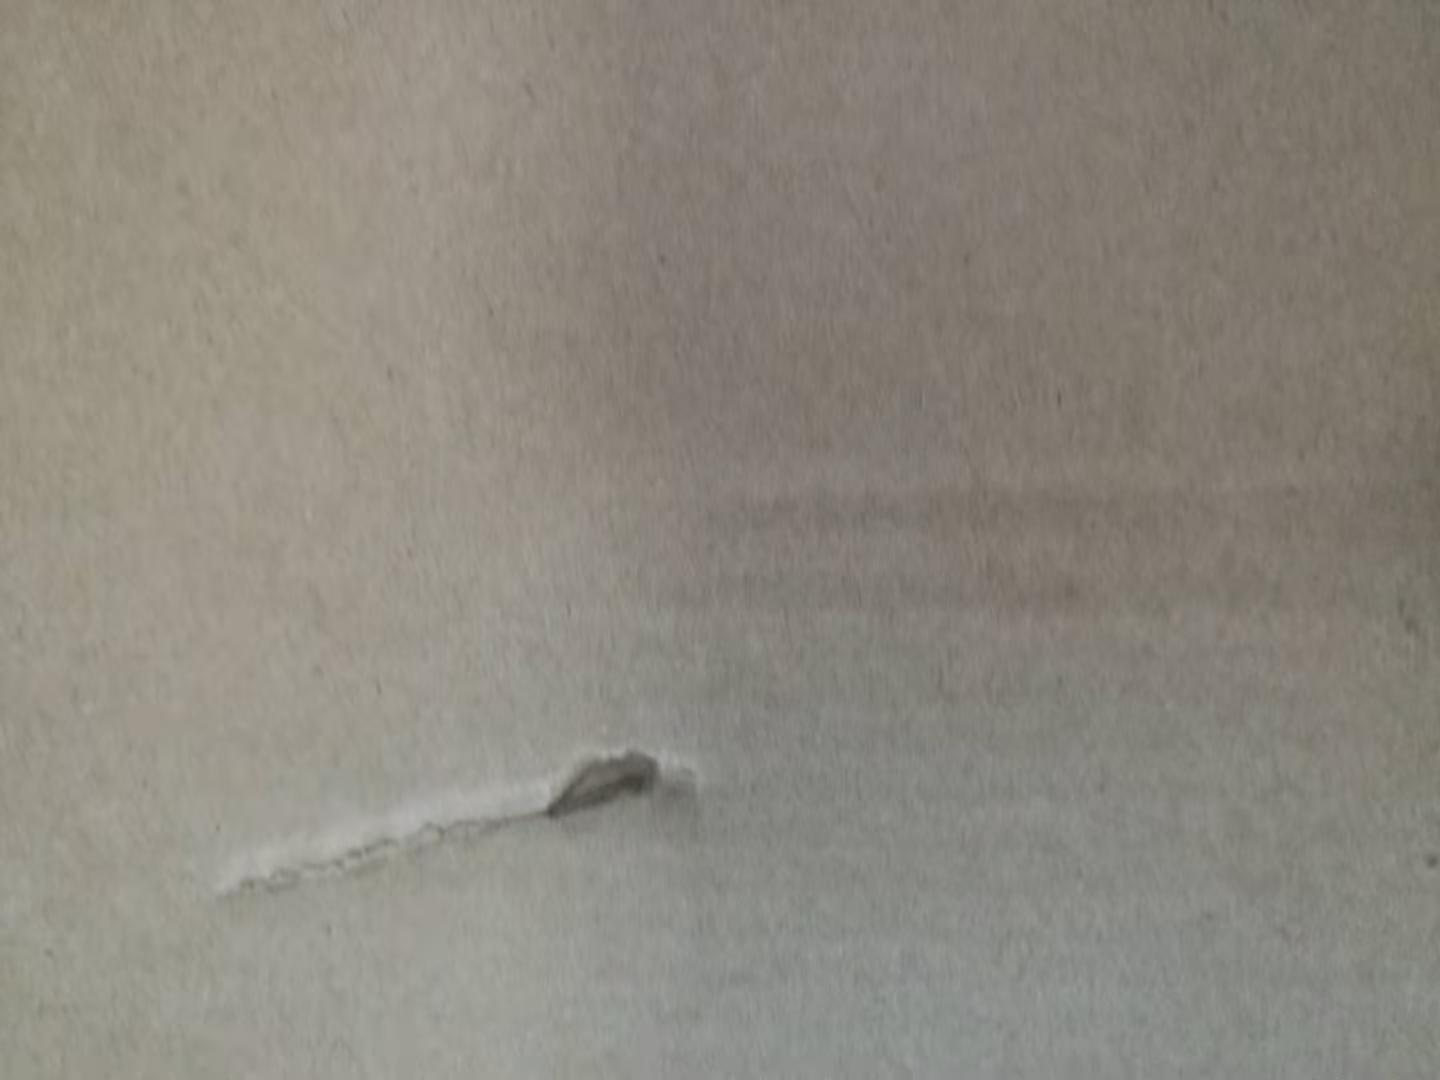defect: (195, 710, 742, 910)
